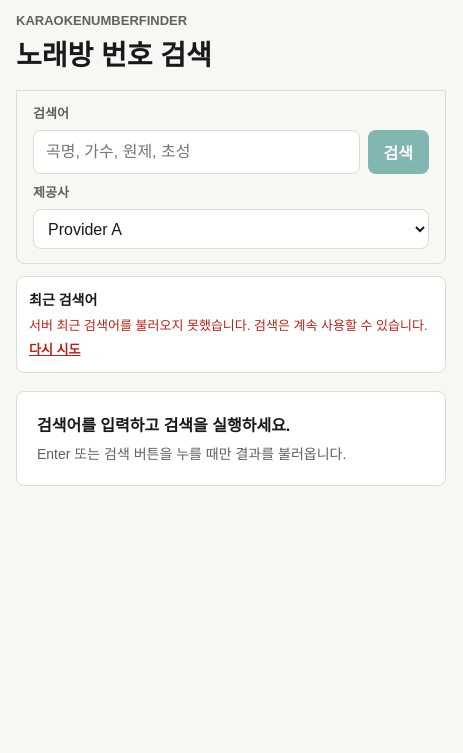
it: MobileSearchPage favorites › shows authenticated initial state and serializes a rapid optimistic delete
The image size is (463, 753).
Expected: the dropdown labelled "제공사" is shown, left=33, top=209, right=429, bottom=249
In the search field labelled "검색어": (196, 152) left=33, top=130, right=360, bottom=174, type "sample"
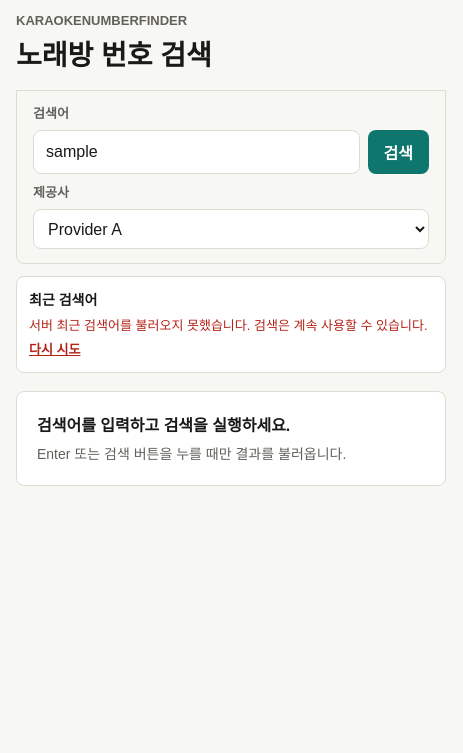
Submit the form, box left=33, top=103, right=429, bottom=249
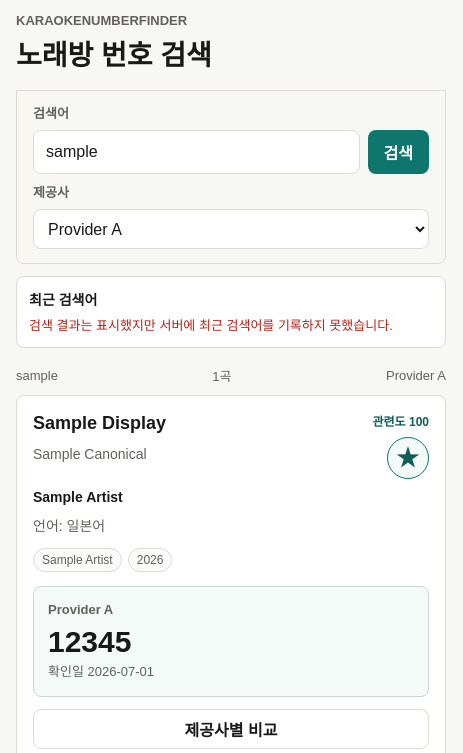
Expected: the heading "Sample Display" is shown, left=33, top=413, right=166, bottom=433
Click the button named "Sample Display 즐겨찾기에서 제거": (408, 458) left=387, top=437, right=429, bottom=479
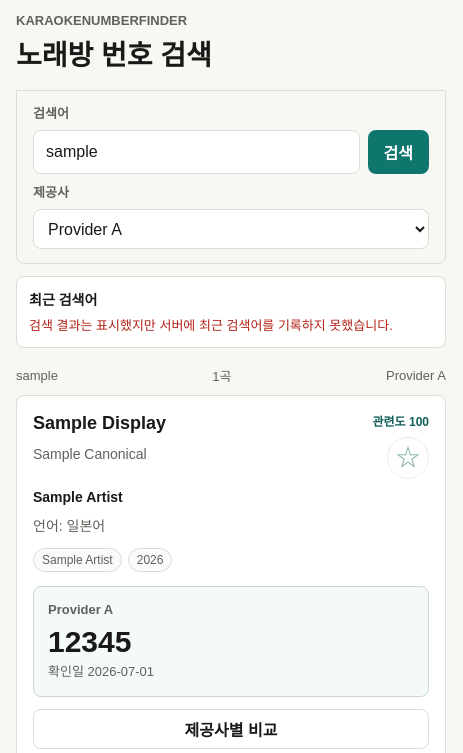
Click the button named "Sample Display 즐겨찾기에서 제거": (408, 458) left=387, top=437, right=429, bottom=479
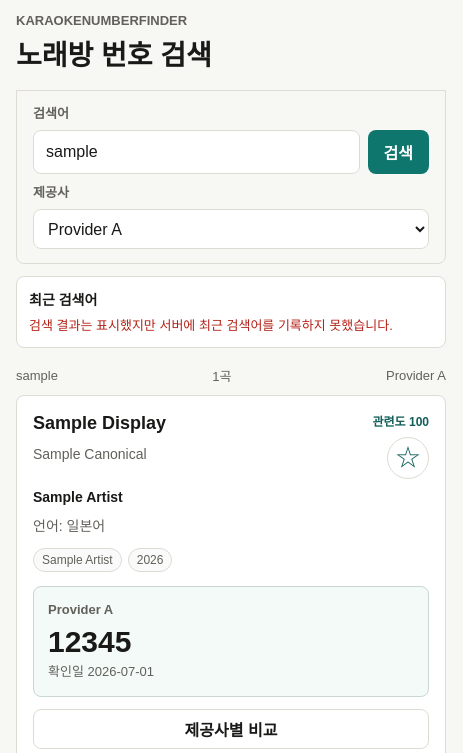
Expected: the button named "Sample Display 즐겨찾기에 추가" is enabled, left=387, top=437, right=429, bottom=479
